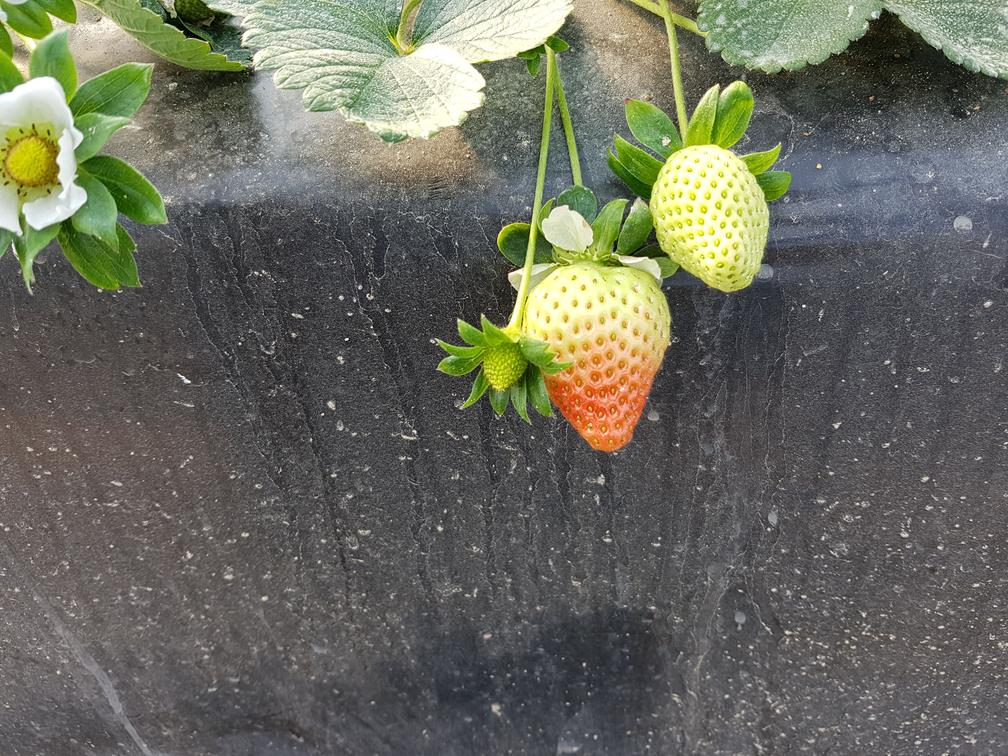Unripe: (525, 264, 675, 462), (649, 142, 778, 293)
